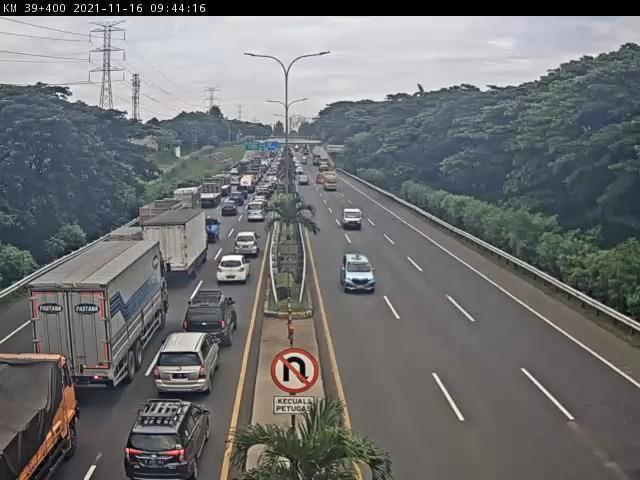car: (130, 394, 221, 480), (159, 324, 220, 392), (187, 286, 245, 350), (341, 252, 382, 298), (216, 251, 255, 288), (234, 227, 269, 261), (341, 207, 366, 232), (248, 203, 267, 225), (223, 201, 240, 217), (233, 192, 246, 206), (254, 197, 270, 206), (300, 176, 312, 186)
truck: (30, 242, 173, 393), (1, 352, 79, 480), (151, 209, 212, 282), (140, 200, 184, 246), (107, 226, 145, 262), (173, 186, 202, 216), (195, 217, 223, 246), (198, 180, 222, 207), (210, 175, 234, 199)
